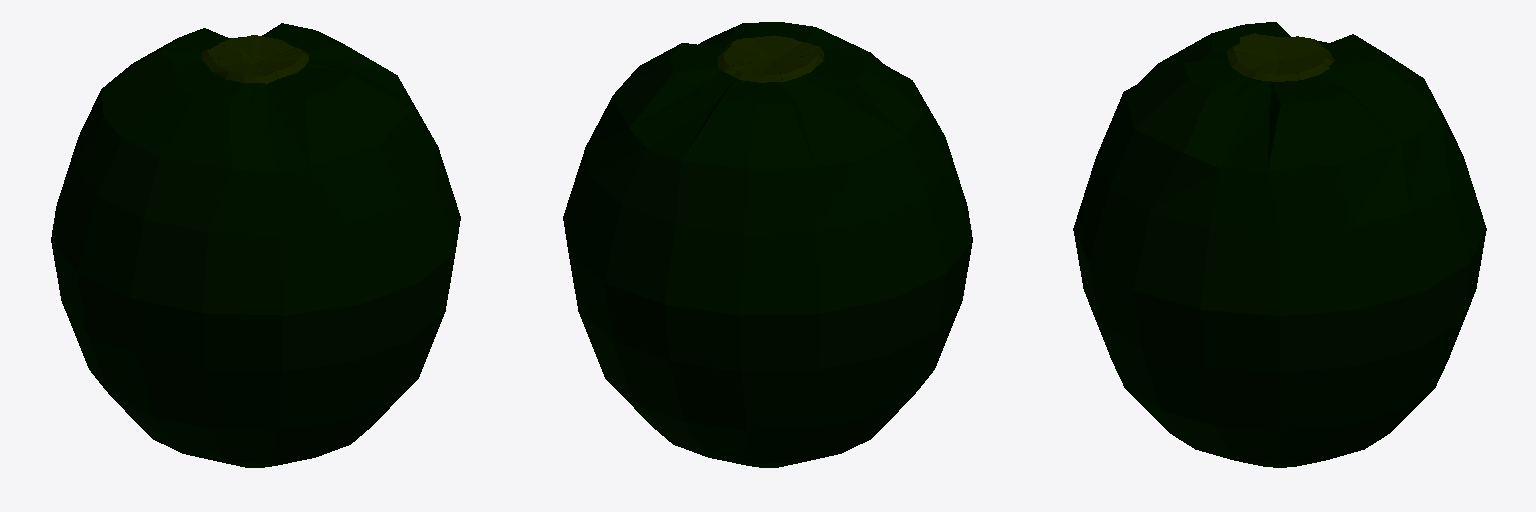
The model's file is coconut.obj.
The picture shows the model from 3 angles: view 1: azimuth 30°, elevation 25°; view 2: azimuth 150°, elevation 25°; view 3: azimuth 270°, elevation 25°; orthographic projection.
Parts seen in each view (by area): view 1: Sphere2 group; view 2: Sphere2 group; view 3: Sphere2 group.
Boxes of the visible parts, <box> form: Sphere2 group: <box>51,23,460,467</box>; Sphere2 group: <box>563,22,972,467</box>; Sphere2 group: <box>1073,22,1486,467</box>.
Size of the model in its own units: 4.12 by 4.47 by 4.12.